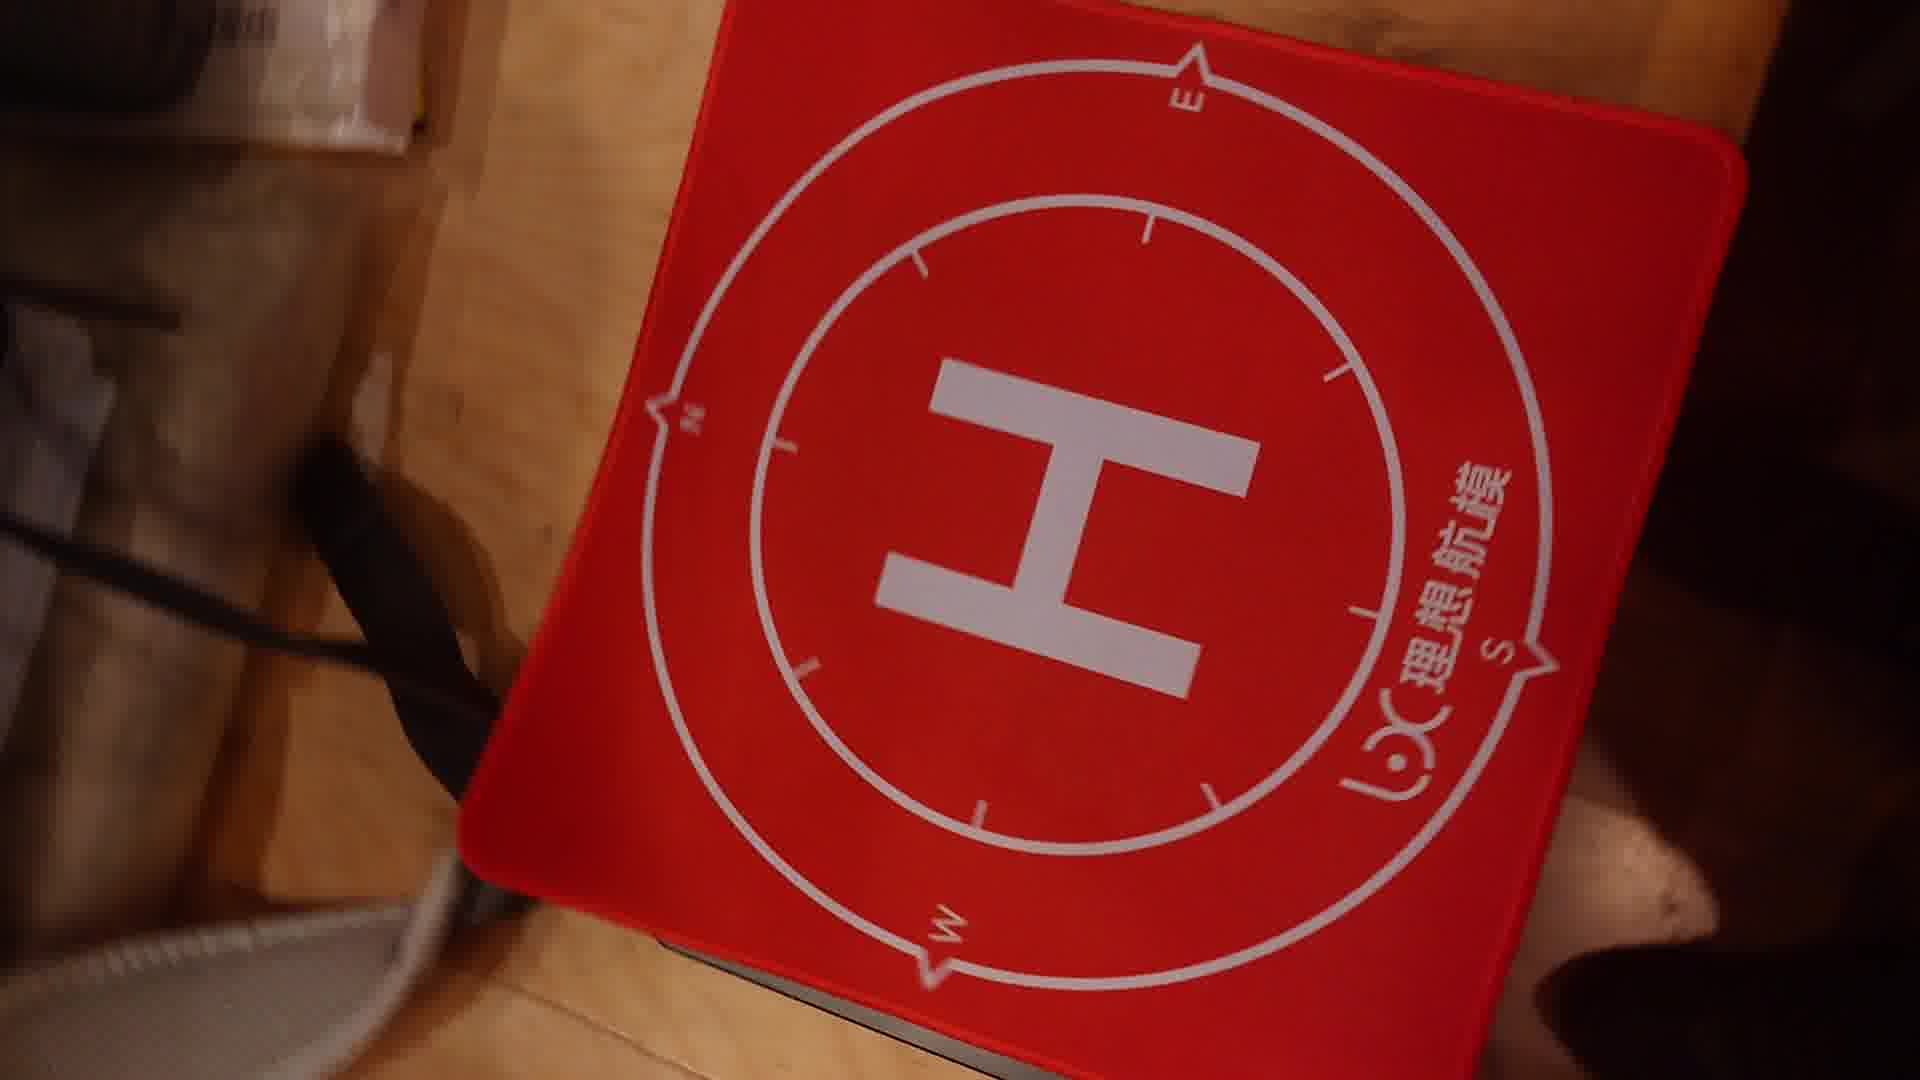H: (876, 356, 1265, 700)
